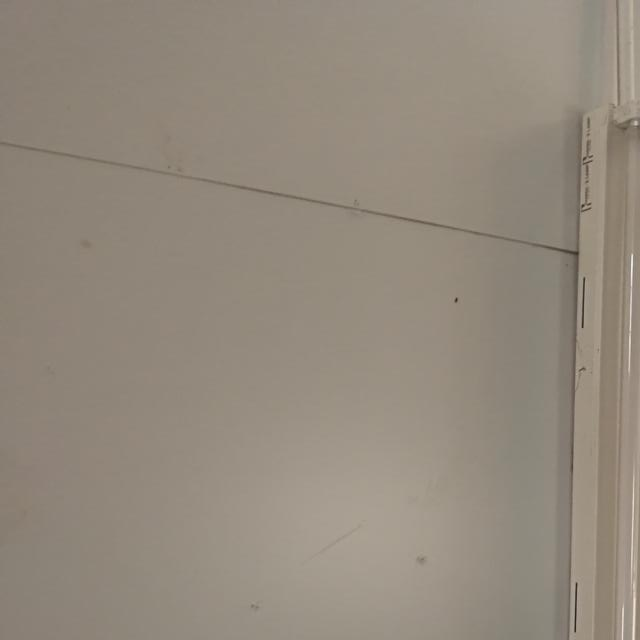fluorescent tube: (520, 69, 639, 640)
